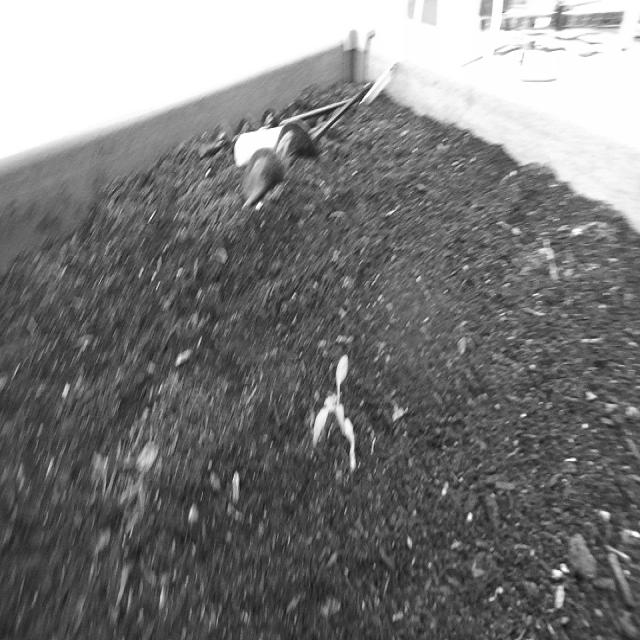Healthy: (312, 353, 358, 456)
